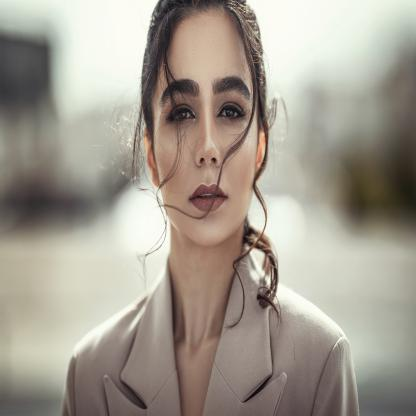Eye: (216, 101, 248, 124), (166, 105, 197, 124)
Mouth: (188, 183, 229, 213)
Nose: (195, 113, 221, 169)
